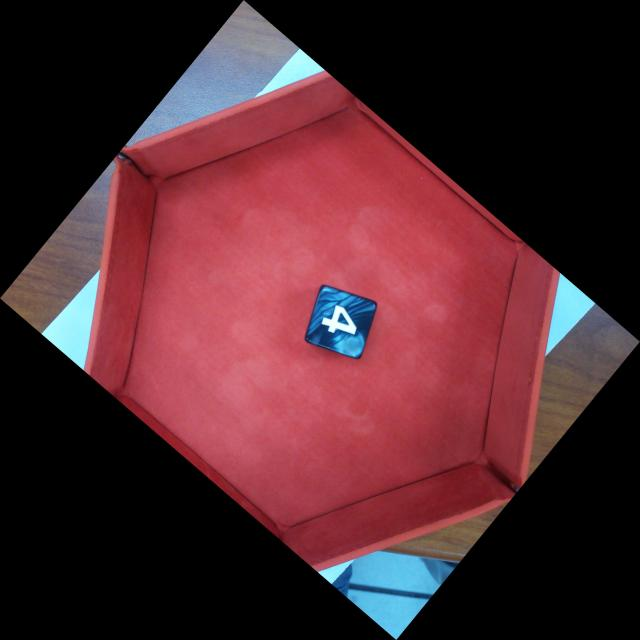dice: (303, 284, 378, 361)
